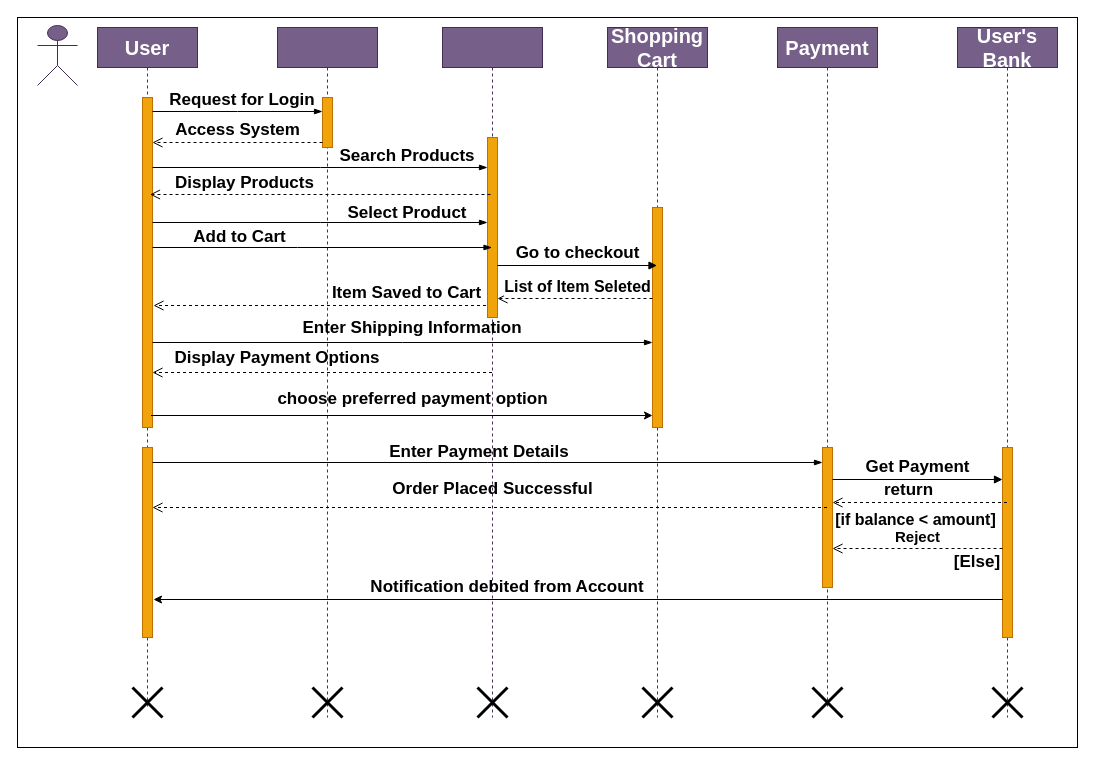
Image size: 1095x765. Some labels were removed from this diagram. Here are the shapes that lost their labels. From the top down, the box of each, then its label:
(276, 26, 378, 718): Login
(442, 26, 542, 718): System Interface
